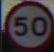Speed limit: (5, 3, 49, 43)
